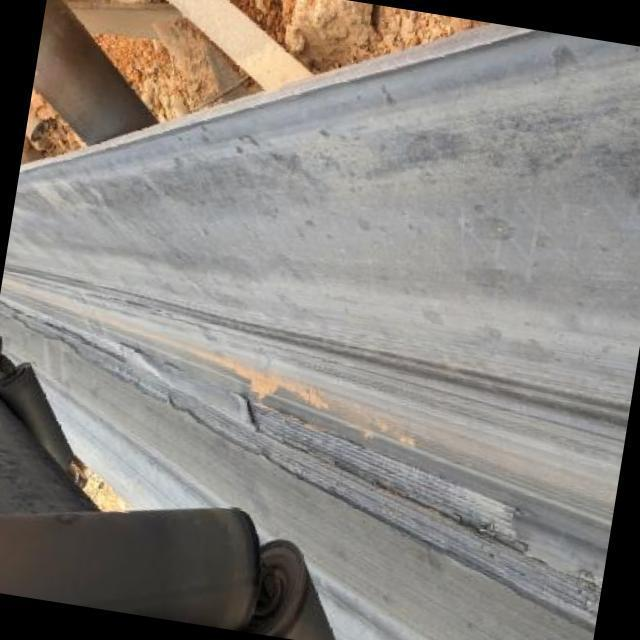Tear: (0, 292, 602, 628)
